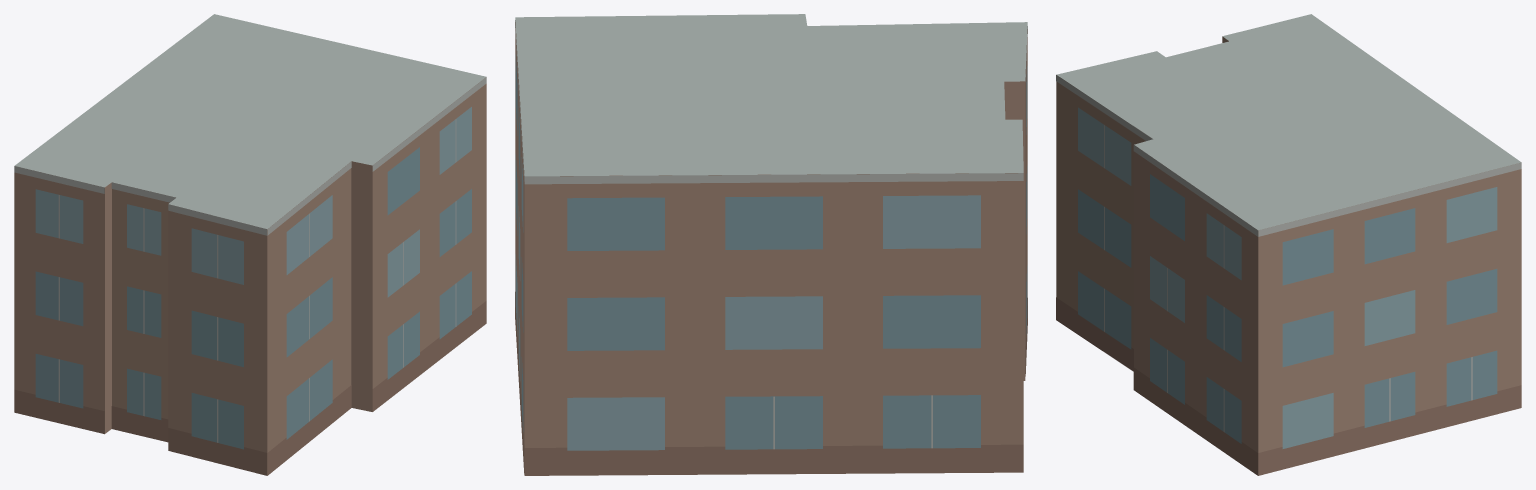
File: survey-upis-32527919.glb
The picture shows the model from 3 angles, left to right: view 1: azimuth 30°, elevation 25°; view 2: azimuth 150°, elevation 25°; view 3: azimuth 270°, elevation 25°; orthographic projection. The views are drawn at different scales.
Visible parts, largest first — view 1: survey-upis-32527919.tmp; view 2: survey-upis-32527919.tmp; view 3: survey-upis-32527919.tmp.
Part boxes in pixels (x1,y1,x2,y2): survey-upis-32527919.tmp: [14, 14, 486, 475]; survey-upis-32527919.tmp: [515, 14, 1027, 475]; survey-upis-32527919.tmp: [1056, 14, 1521, 475].
Size of the model in its own units: 17.31 by 9.15 by 15.73.
